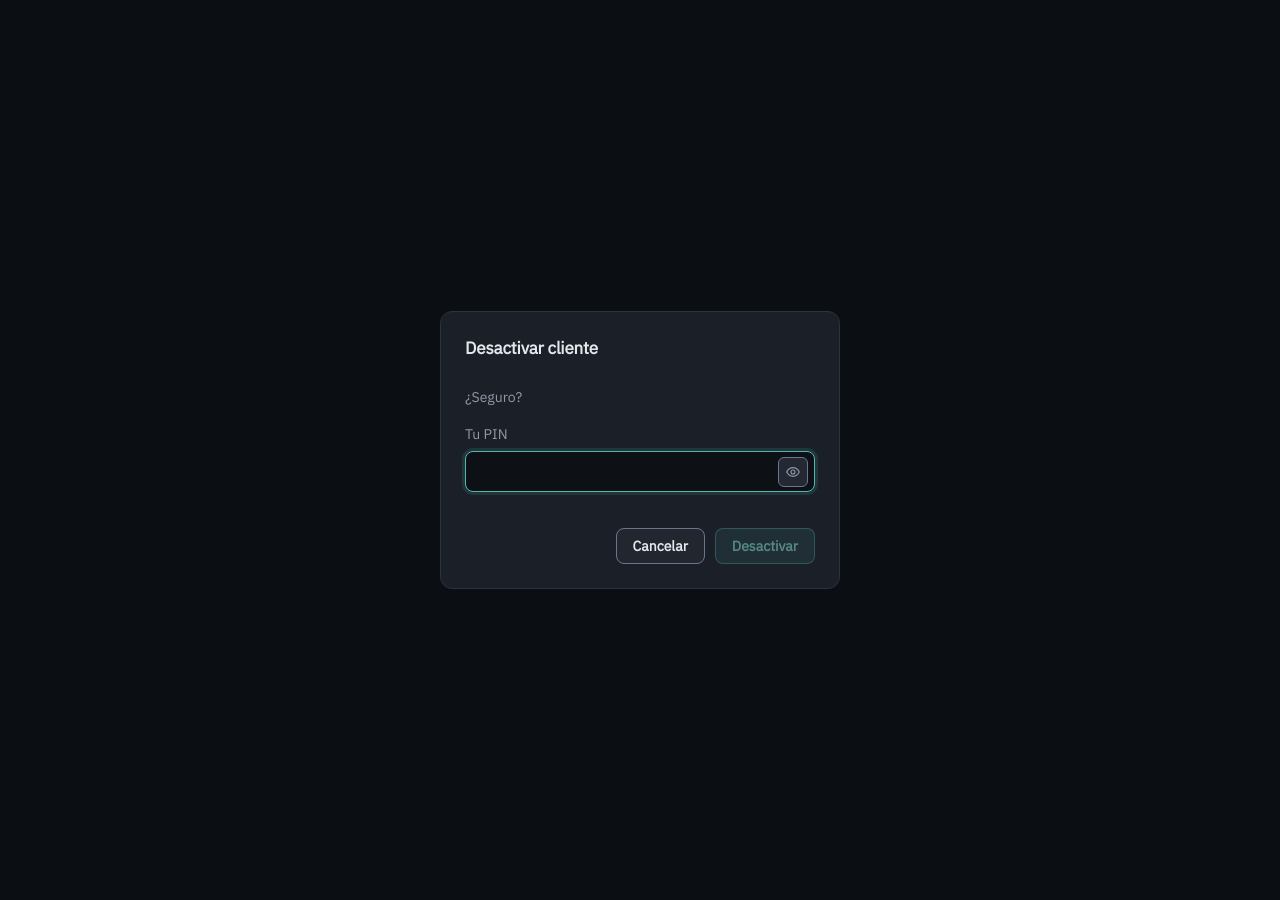
Test: ConfirmDialog con PIN › no deja confirmar hasta tener los seis dígitos y solo acepta números
This screenshot has width=1280, height=900.
Expected: the button "Desactivar" is disabled, [715,528,815,564]
Step 1. Type "12ab345" into the password field labelled "Tu PIN" → (640, 472), box [465,451,815,492]
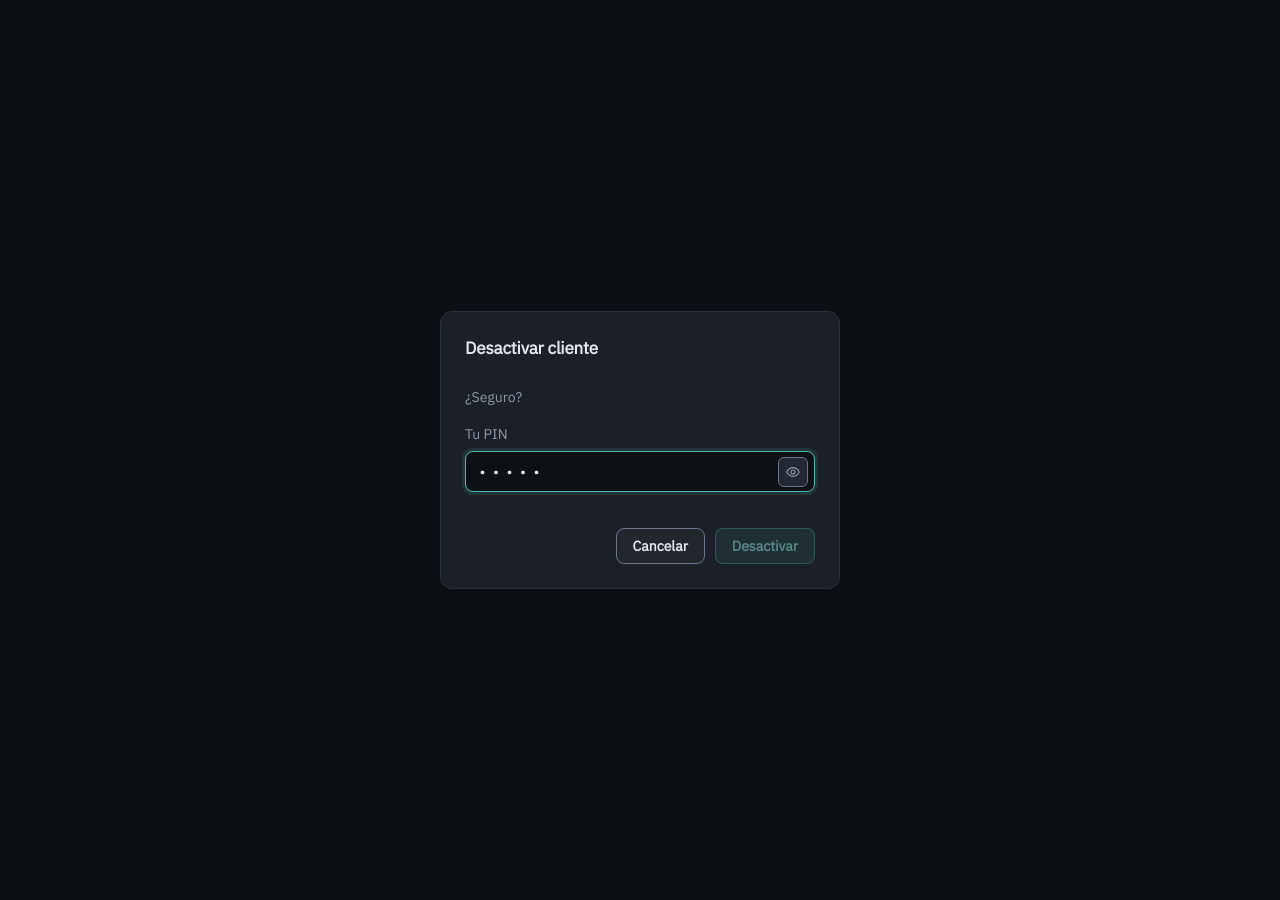
Expected: the button "Desactivar" is disabled, [715,528,815,564]
Now the password field labelled "Tu PIN" holds "12345"
Step 2. Type "6" into the password field labelled "Tu PIN" → (640, 472), box [465,451,815,492]
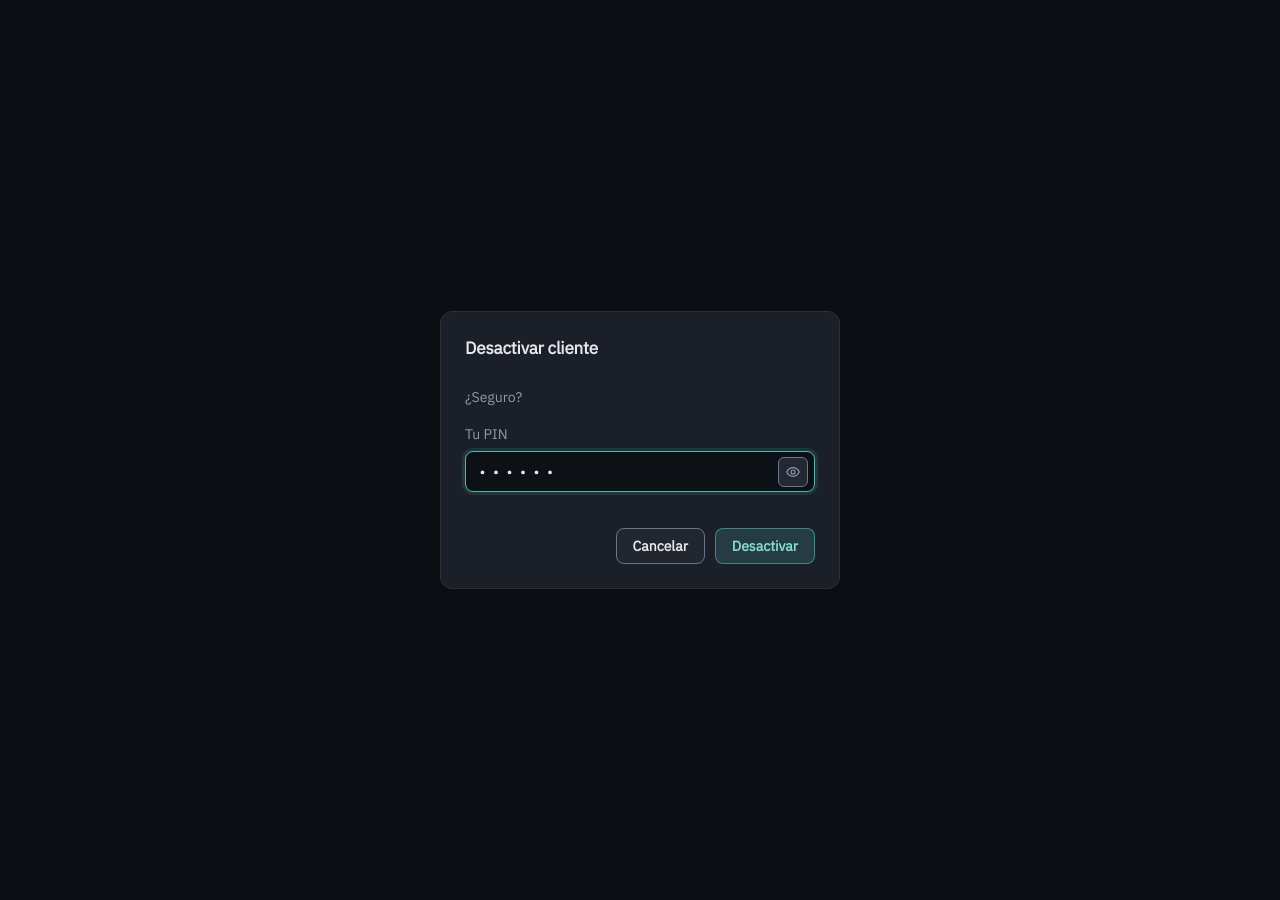
Now the button "Desactivar" is enabled, box [715,528,815,564]
